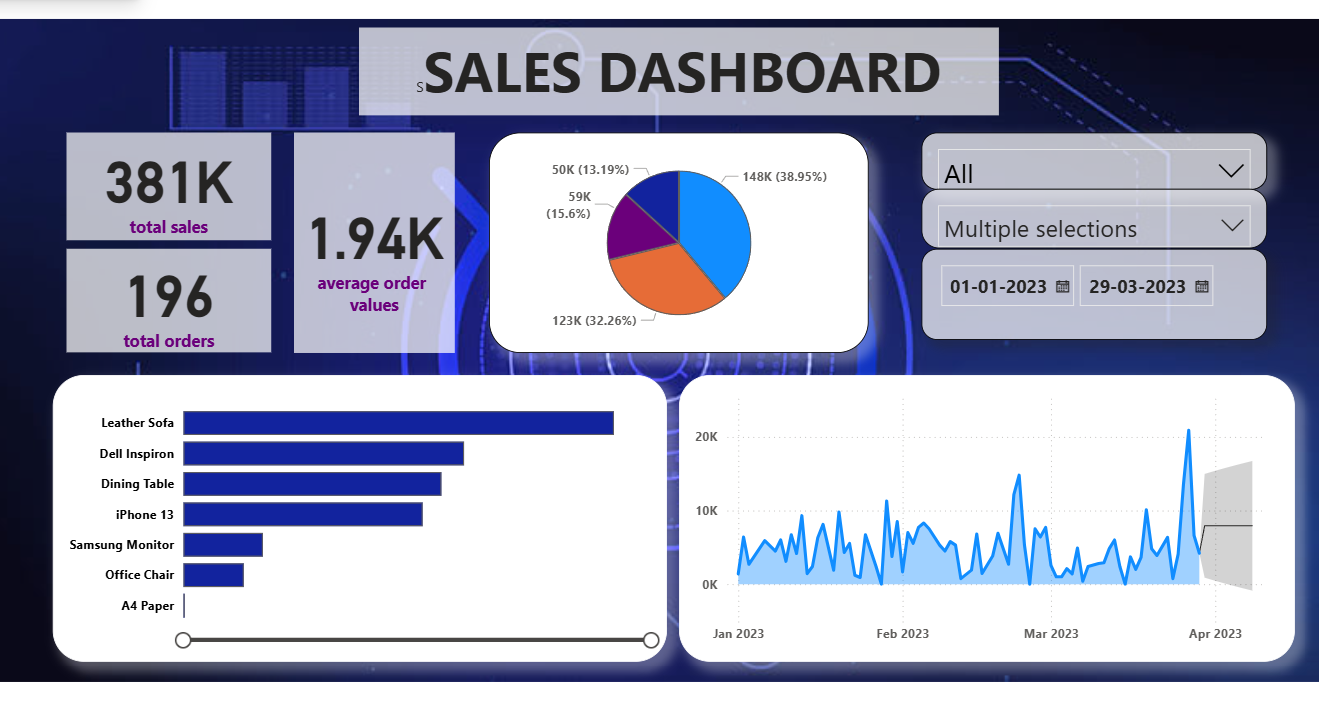

Layout of this report page (visuals, bound fields, positions):
{"tool":"powerbi","page":{"name":"Page 1","canvas":[1280,720],"ordinal":0},"visuals":[{"type":"card","fields":{"Values":["sqlbiproject sales.total sales"]},"box":[70,146.8,197.6,104.3],"z":0},{"type":"card","fields":{"Values":["sqlbiproject sales.total orders"]},"box":[70,259.3,197.6,100.2],"z":1},{"type":"card","fields":{"Values":["sqlbiproject sales.average order values"]},"box":[289.5,146.8,155.1,212.7],"z":2},{"type":"barChart","fields":{"Category":["sqlbiproject products.Product"],"Y":["sqlbiproject sales.total sales"]},"box":[56.3,381.5,592.8,277.2],"z":3},{"type":"lineChart","fields":{"Category":["sqlbiproject sales.OrderDate"],"Y":["sqlbiproject sales.total sales"]},"box":[661.4,381.5,594.2,277.2],"z":4},{"type":"pieChart","fields":{"Category":["sqlbiproject customers.Region"],"Y":["sqlbiproject sales.total sales"]},"box":[477.5,146.8,366.4,212.7],"z":5},{"type":"slicer","fields":{"Values":["sqlbiproject customers.Region"]},"box":[894.7,146.8,333.4,54.9],"z":6},{"type":"slicer","fields":{"Values":["sqlbiproject products.Category"]},"box":[894.7,201.7,333.4,57.6],"z":7},{"type":"slicer","fields":{"Values":["sqlbiproject sales.OrderDate"]},"box":[894.7,259.3,333.4,87.8],"z":8},{"type":"textbox","box":[352.7,45.3,617.5,85.1],"z":9}]}

Visuals, with their boxes in screenshot pixels (x1, y1, x2, y2):
card - sqlbiproject sales.total sales: 59:125:265:234
card - sqlbiproject sales.total orders: 59:243:265:347
card - sqlbiproject sales.average order values: 288:125:449:347
barChart - sqlbiproject products.Product x sqlbiproject sales.total sales: 45:370:662:659
lineChart - sqlbiproject sales.OrderDate x sqlbiproject sales.total sales: 675:370:1294:659
pieChart - sqlbiproject customers.Region x sqlbiproject sales.total sales: 484:125:865:347
slicer - sqlbiproject customers.Region: 918:125:1266:183
slicer - sqlbiproject products.Category: 918:183:1266:243
slicer - sqlbiproject sales.OrderDate: 918:243:1266:334
textbox: 354:20:997:108
